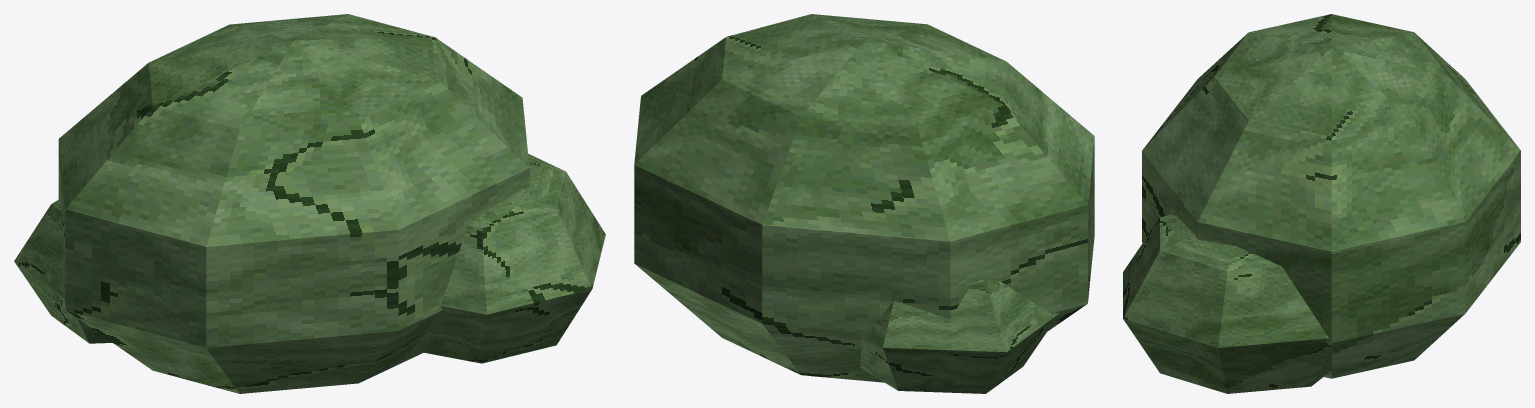
File: entulho_de_floresta.glb
3 views of the same model, side by side, from view 1: azimuth 30°, elevation 25°; view 2: azimuth 150°, elevation 25°; view 3: azimuth 270°, elevation 25° (orthographic). The views are drawn at different scales.
Visible parts, largest first — view 1: entulho_de_floresta; view 2: entulho_de_floresta; view 3: entulho_de_floresta.
Boxes of the visible parts, left/top/right/bottom form: entulho_de_floresta: left=14, top=14, right=605, bottom=393; entulho_de_floresta: left=634, top=14, right=1094, bottom=393; entulho_de_floresta: left=1123, top=14, right=1520, bottom=393.
Bounding box in the file's own units: 1.21 × 0.7894 × 0.9604.
1 material, 1 textured.
